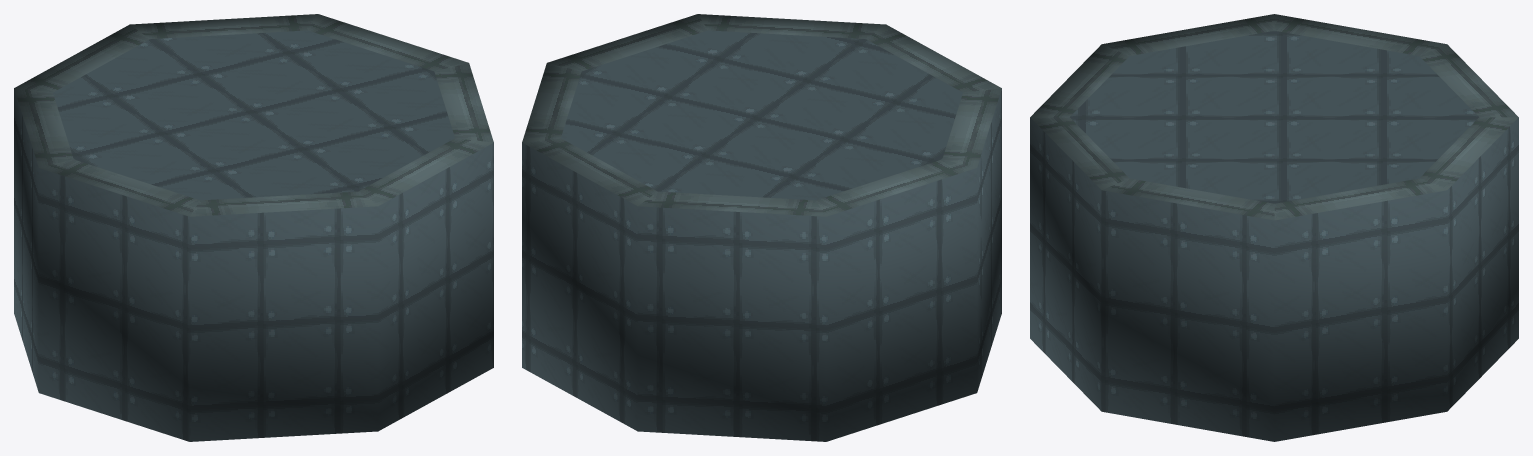
The model's file is RoomBasetile.glb.
3 renders of one model, left to right at view 1: azimuth 30°, elevation 25°; view 2: azimuth 150°, elevation 25°; view 3: azimuth 270°, elevation 25°, orthographic.
Parts seen in each view (by area): view 1: Cylinder; view 2: Cylinder; view 3: Cylinder.
Part boxes in pixels (<box>): Cylinder: <box>14,14,493,441</box>; Cylinder: <box>522,14,1001,441</box>; Cylinder: <box>1030,14,1518,441</box>.
Bounding box in the file's own units: 2.76 × 1.38 × 2.76.
2 materials, 2 textured.
